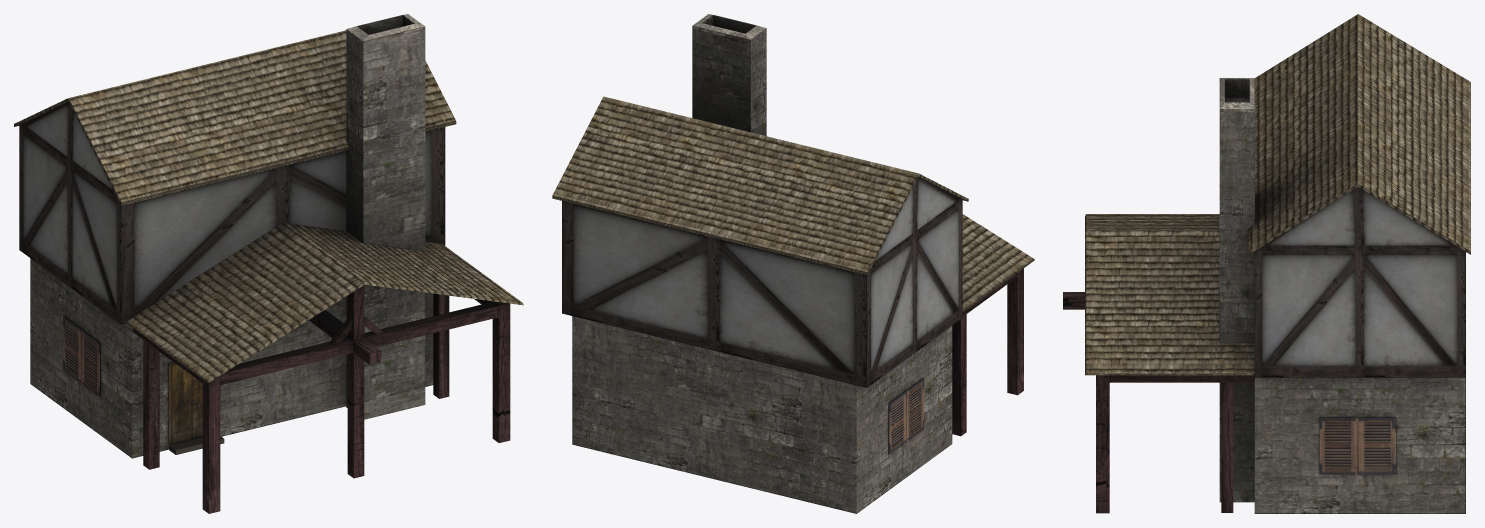
File: house2.obj
The picture shows the model from 3 angles, left to right: view 1: azimuth 30°, elevation 25°; view 2: azimuth 150°, elevation 25°; view 3: azimuth 270°, elevation 25°; orthographic projection. The views are drawn at different scales.
Parts seen in each view (by area): view 1: ext_house01; view 2: ext_house01; view 3: ext_house01.
Boxes of the visible parts, <box> form: ext_house01: <box>14,14,523,513</box>; ext_house01: <box>552,14,1034,513</box>; ext_house01: <box>1063,14,1470,513</box>.
Bounding box in the file's own units: 17.96 × 19.53 × 18.24.
